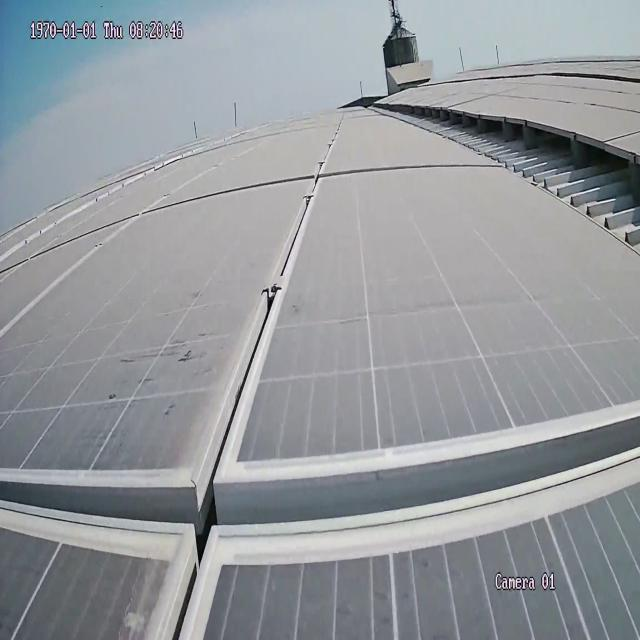interior panel: (0, 110, 640, 639)
outher panel: (374, 99, 640, 250)
